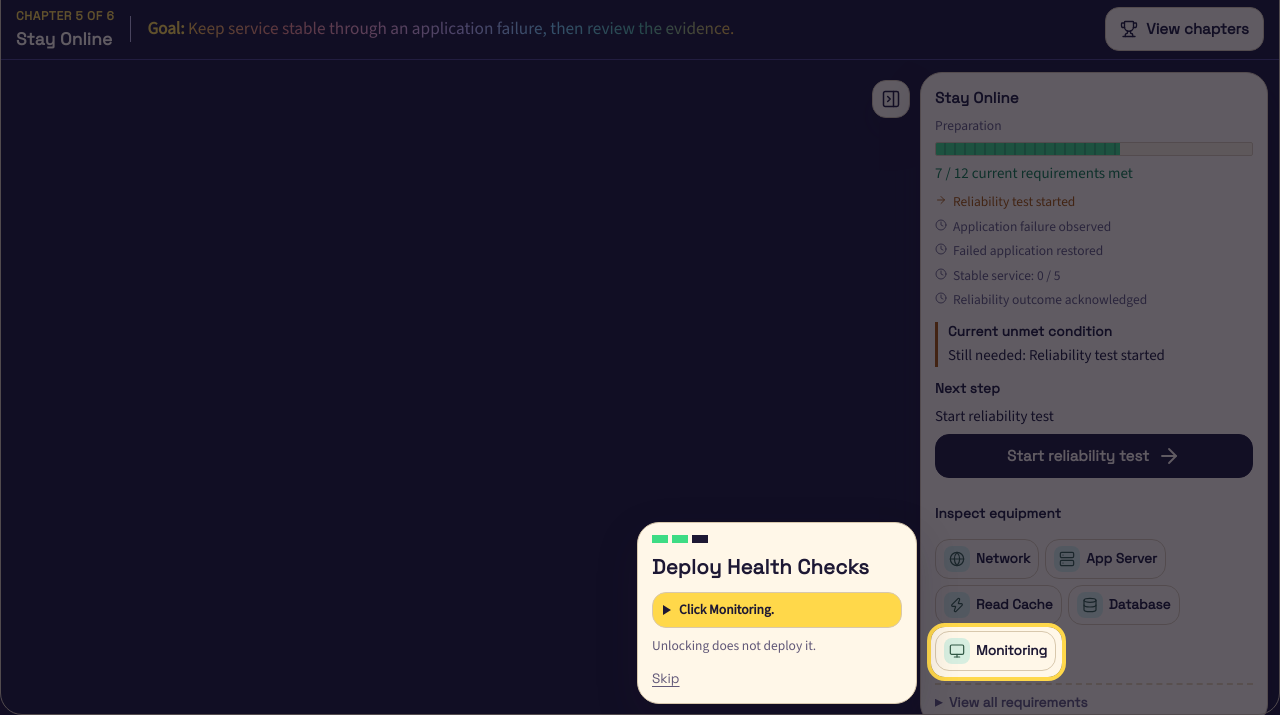
keeps the Deploy Health Checks step on its own action when the player buys something else first
The image size is (1280, 715).
Check: the dialog named "Chapter guide, step 3 of 3" shows "Click Monitoring.", box [679, 600, 774, 618]
Click the button "App Server": [1106, 559] box [1045, 539, 1166, 579]
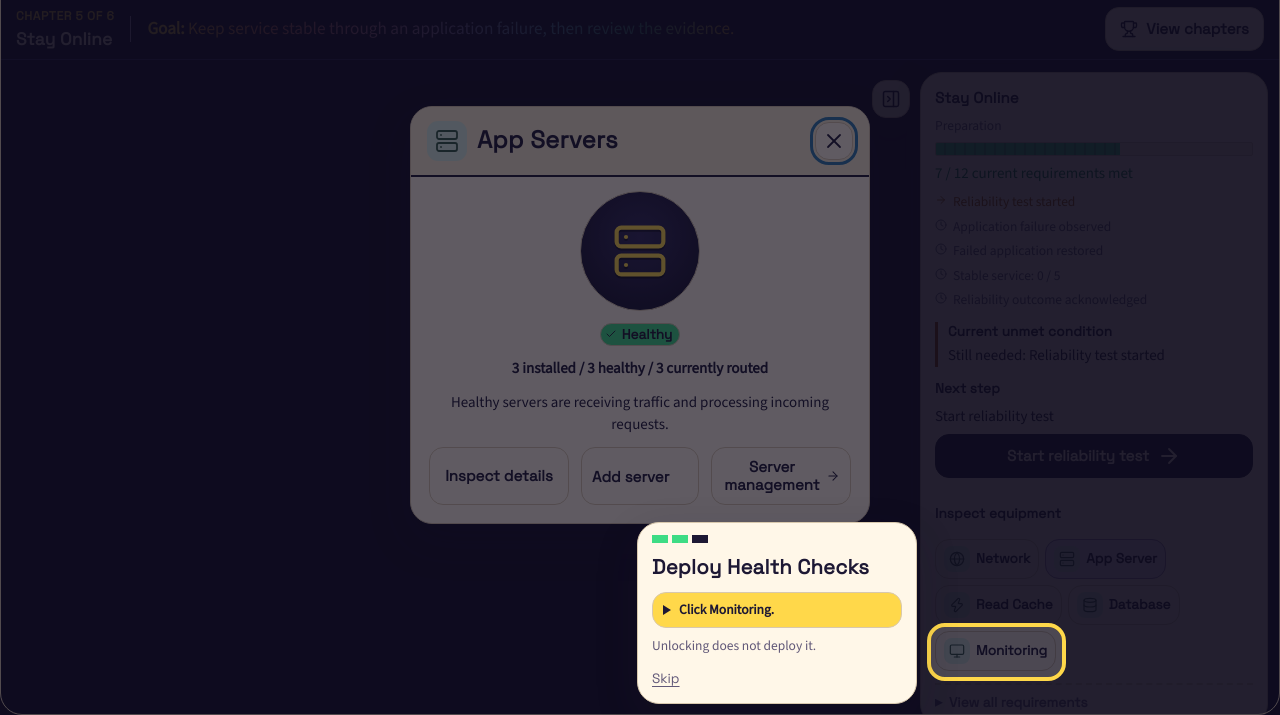
Click the button "Add server": [640, 476] box [581, 447, 699, 505]
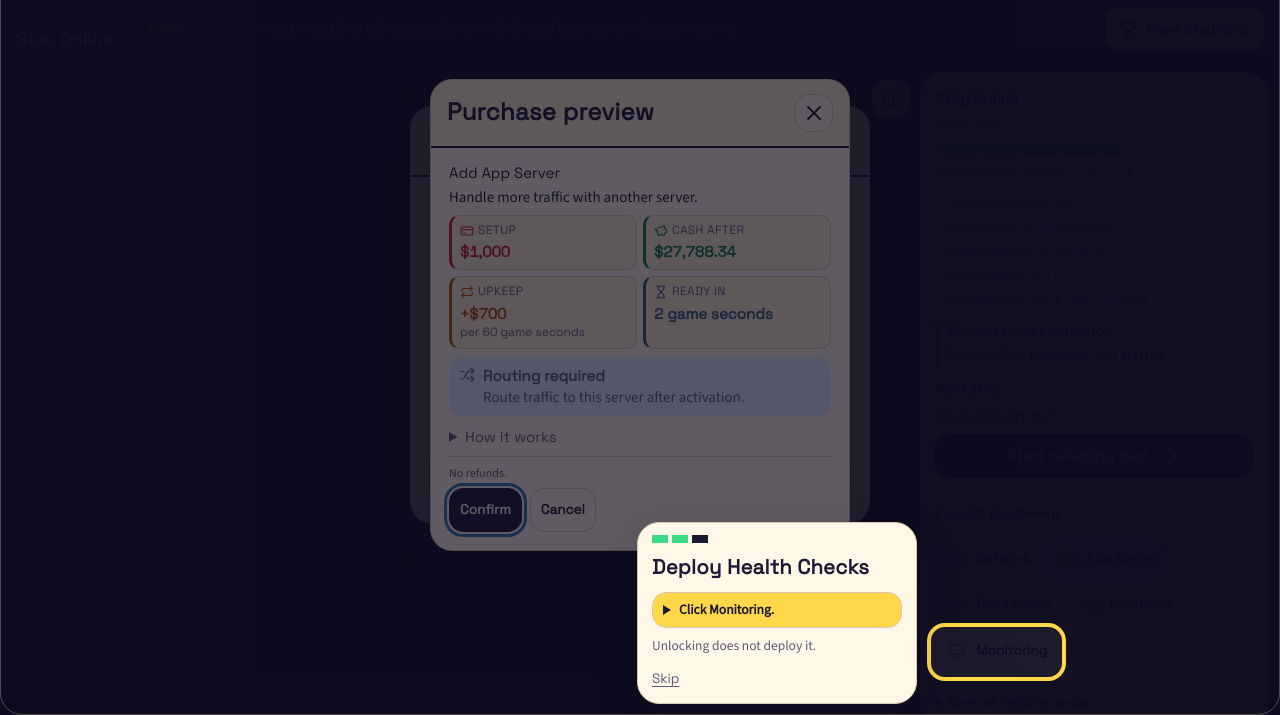
Click the button "Confirm": [485, 510] box [449, 488, 522, 532]
(page scrolled)
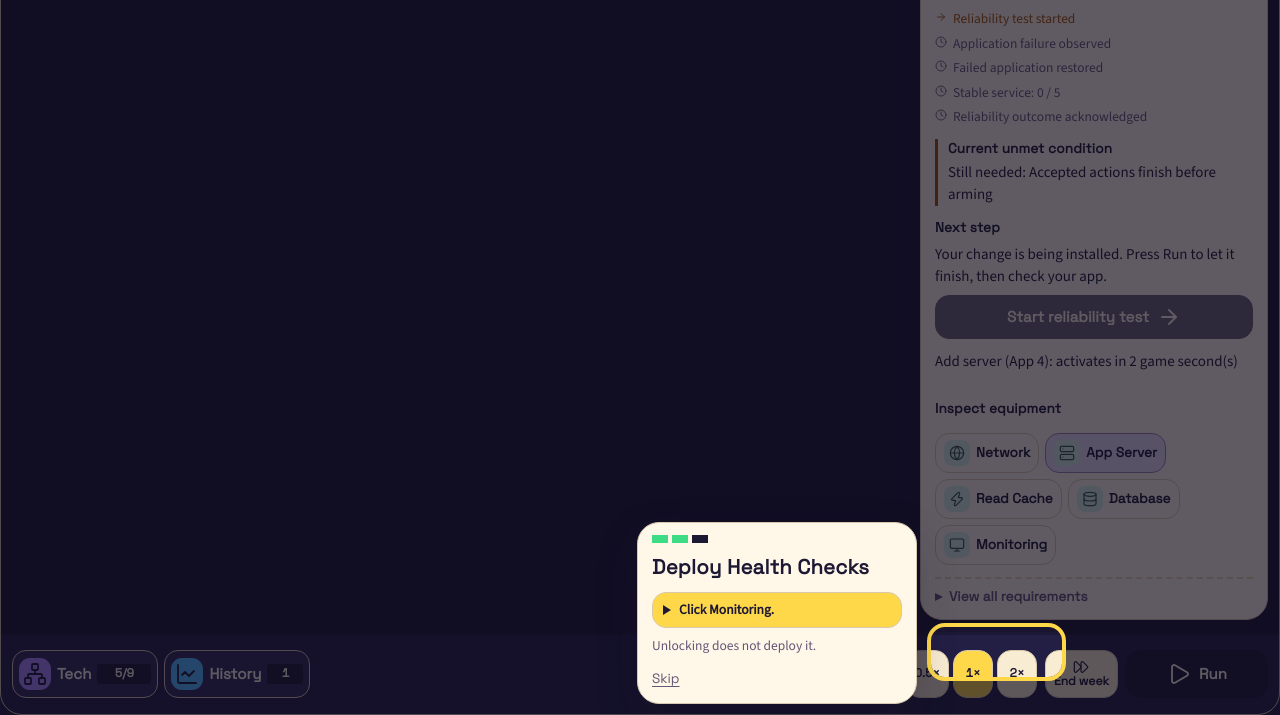
Click the button "Monitoring": [996, 545] box [935, 525, 1056, 565]
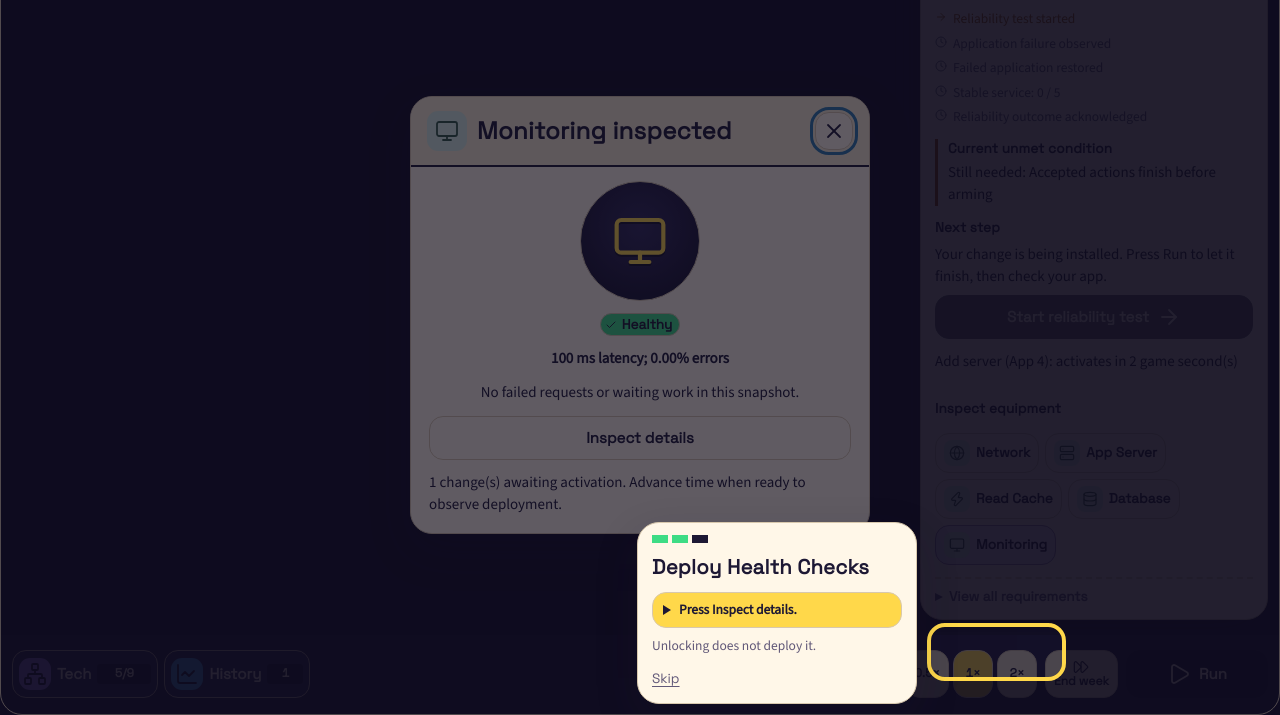
Click the button "Inspect details": [640, 438] box [429, 416, 851, 460]
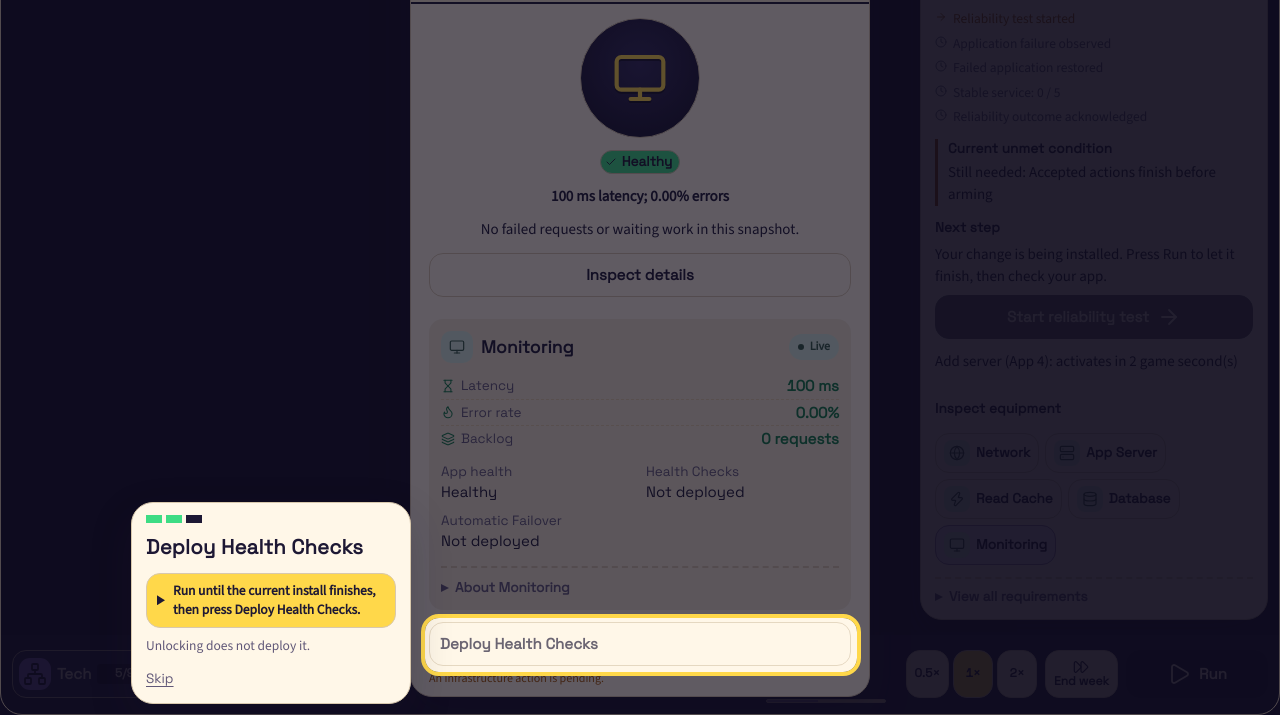
Check: the button "Deploy Health Checks" is disabled, box [429, 622, 851, 666]
Check: the dialog named "Chapter guide, step 3 of 3" shows "Run until the current install finishes, then press Deploy Health Checks.", box [173, 581, 376, 618]
